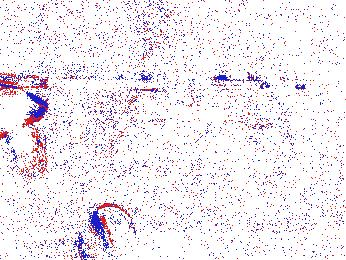flame jellyfish: (1, 82, 49, 183), (64, 204, 138, 260), (53, 198, 103, 247)
